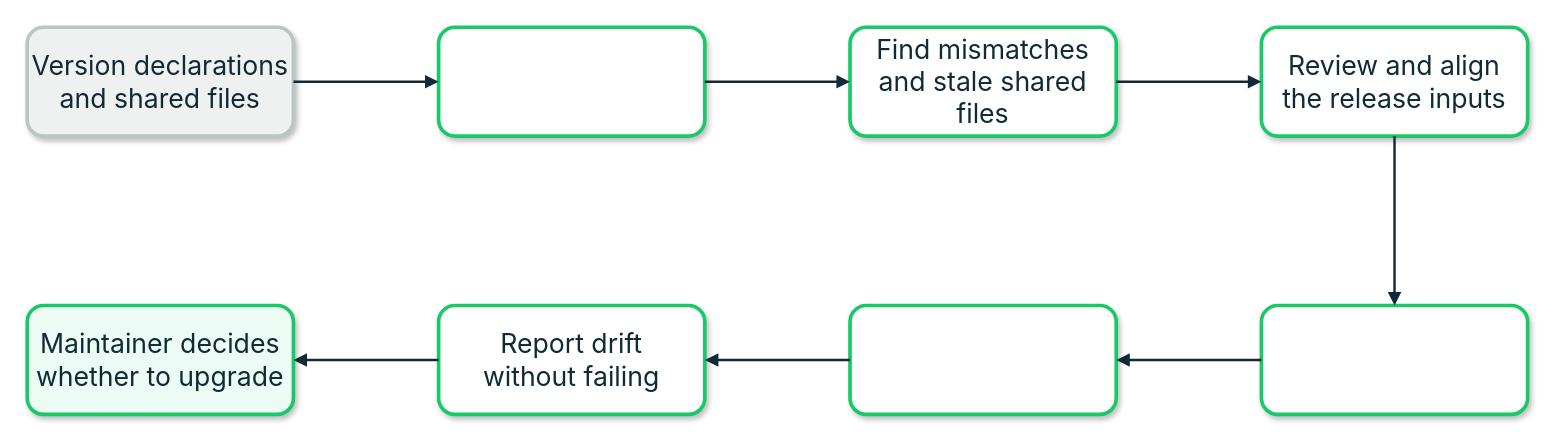
The diagram is 1557 pixels wide and 445 high, and some of its shapes have lost their labels. Each missing label, with the centre of its shape:
"Build pinned and newest environments" goes at point (1395, 361).
"Compare generated artifacts" goes at point (984, 361).
"Run prodockit pins" goes at point (572, 83).
